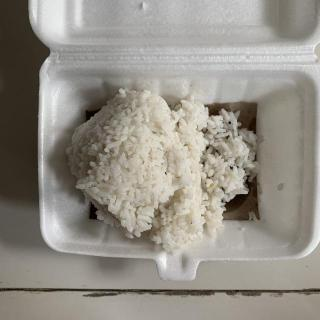Nasi: (67, 92, 259, 258)
